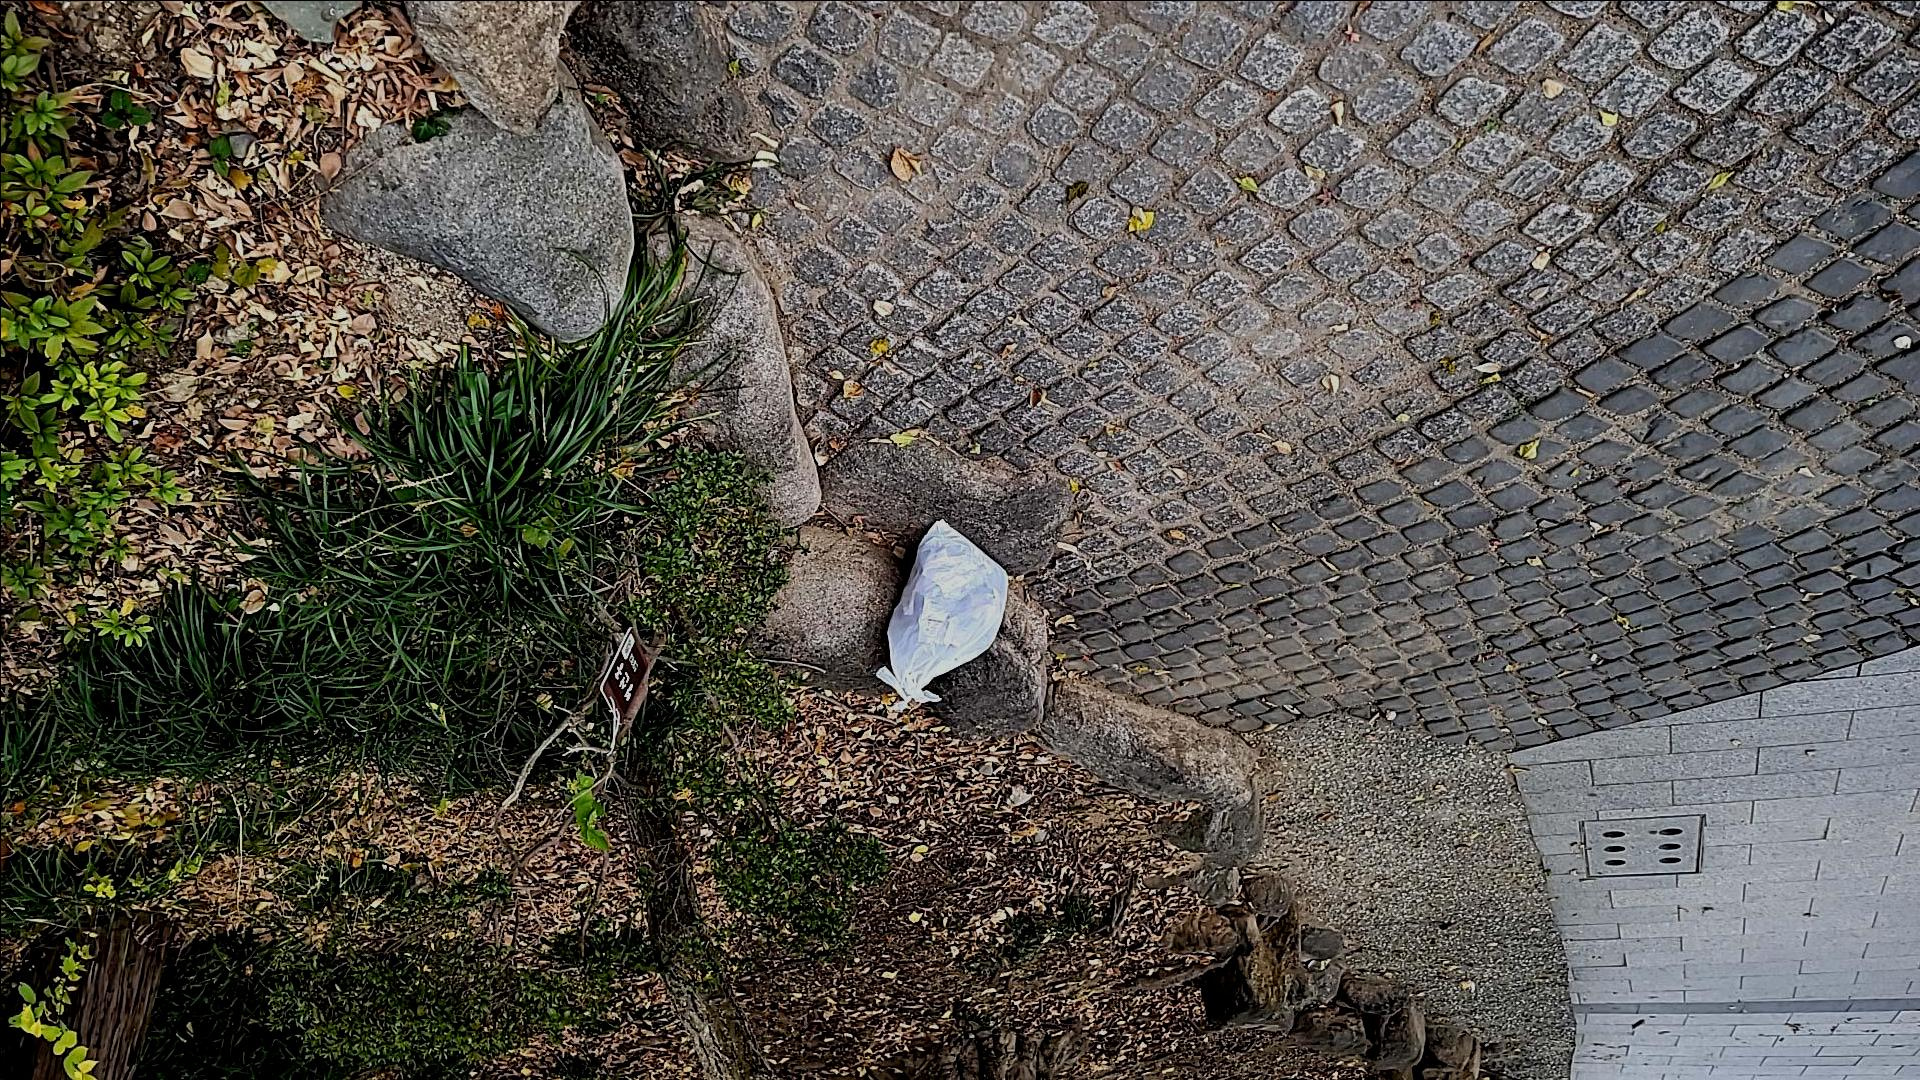white_bag: (866, 513, 1023, 731)
